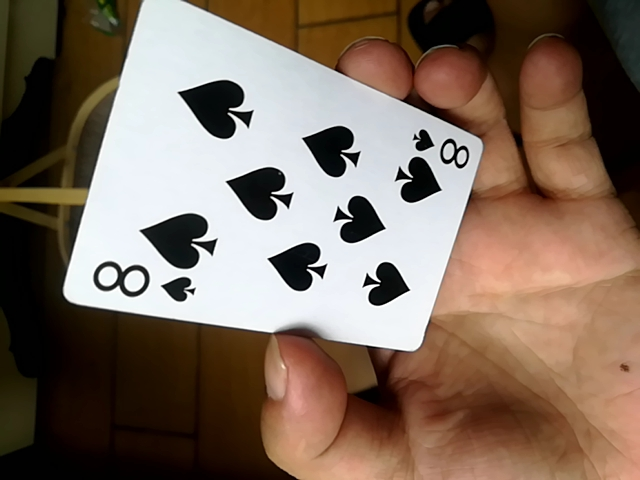ht 8: (62, 0, 489, 364)
